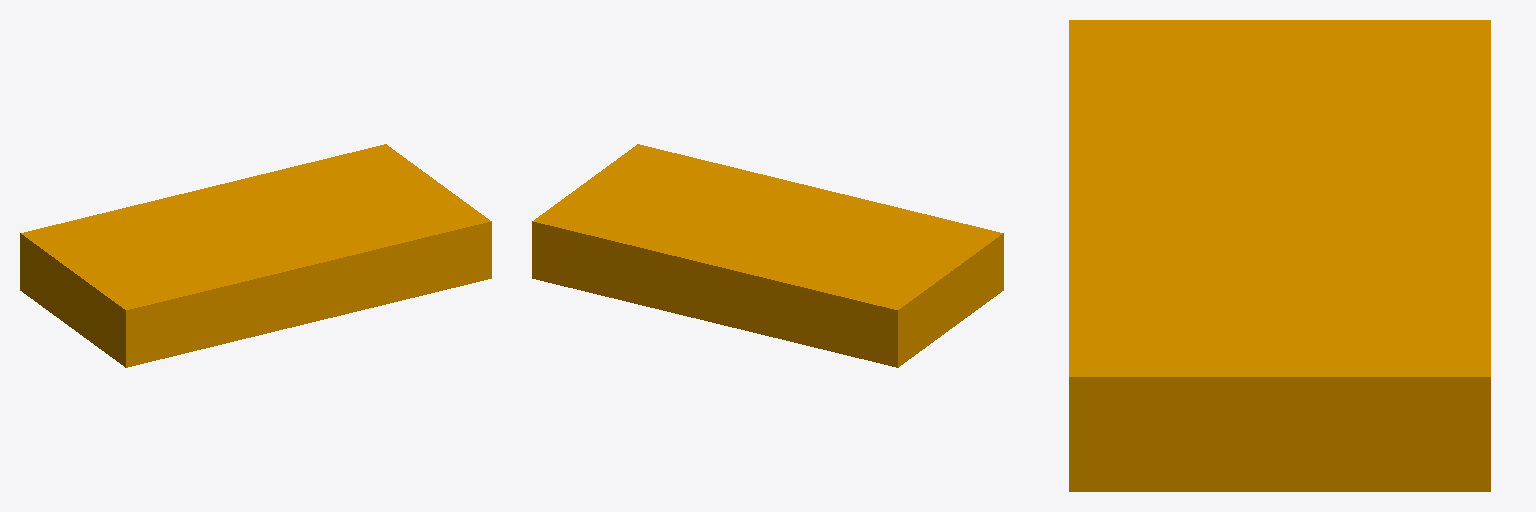
The robot description file, URDF, robot "roof":
<?xml version="1.0"?>
<robot name="roof">
  <link name="base_link">
    <visual>
      <geometry>
        <box size="2 1 0.3"/>
      </geometry>
  	<origin rpy="0 0 0" xyz="0 0 0.8"/>
    </visual>
    <collision>
      <geometry>
        <box size="2.2 1.2 0.4"/>
      </geometry>
    <origin rpy="0 0 0" xyz="0 0 0.8"/>
    </collision>
  </link>
</robot>

--- What the picture shows (computed from the rendered views, not written in the file) ---
Views: 3 orthographic renders of the robot side by side, from view 1: azimuth 30°, elevation 25°; view 2: azimuth 150°, elevation 25°; view 3: azimuth 270°, elevation 25°.
Model roof with 1 links and 0 joints (none), rooted at base_link, posed all joints at 0.
Visible links, largest first — view 1: base_link; view 2: base_link; view 3: base_link.
Link boxes in pixels (<box>): base_link: <box>20,144,491,367</box>; base_link: <box>532,144,1003,367</box>; base_link: <box>1069,20,1490,491</box>.
Bounding box of the posed robot: 2 × 1 × 0.3 m (x, y, z).
Geometry: primitives only (box / cylinder / sphere), no mesh files.